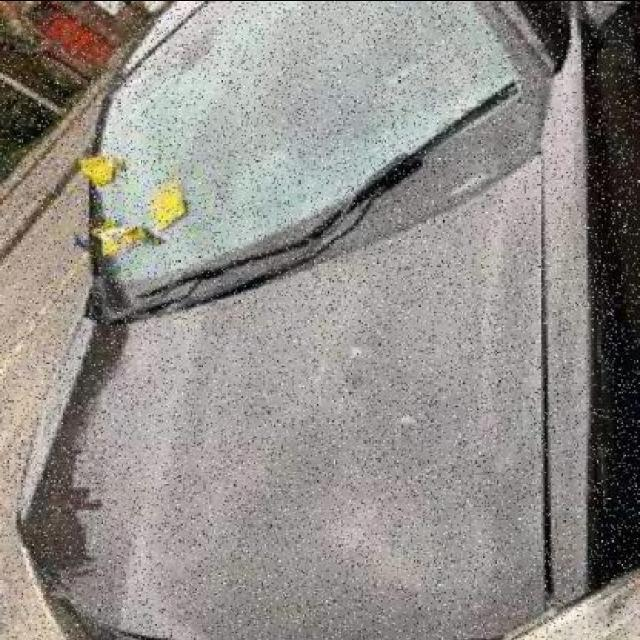bonnet-dent: (70, 249, 559, 640)
